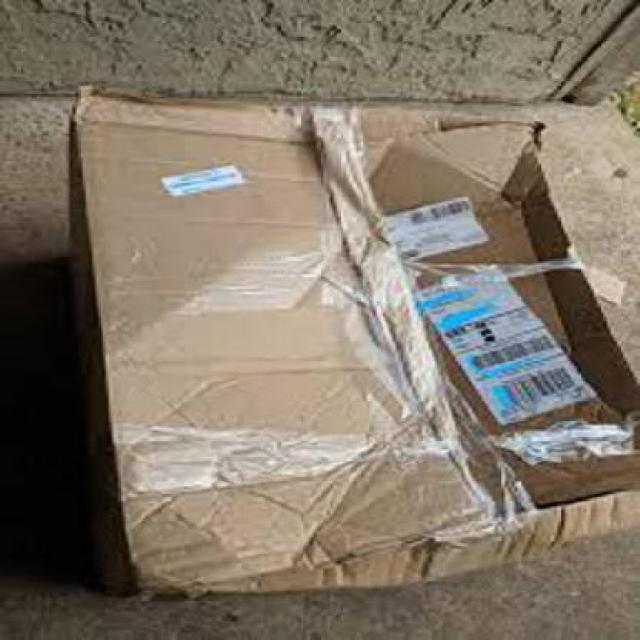Kardus kondisi rusak: (71, 95, 640, 605)
